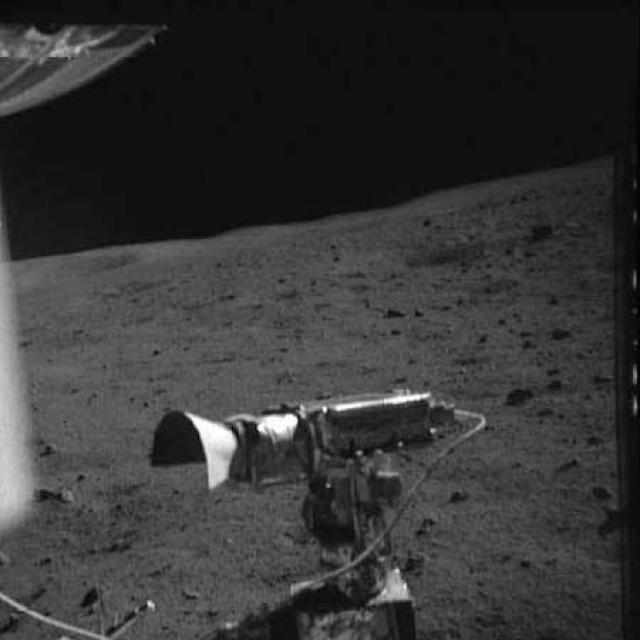artifact: (149, 377, 494, 640), (0, 11, 164, 554), (0, 580, 155, 639)
crater: (390, 240, 520, 280), (170, 286, 222, 321)
rock: (517, 212, 576, 246), (500, 375, 544, 408), (590, 499, 636, 527), (407, 512, 446, 544), (48, 479, 82, 508), (584, 476, 620, 503), (398, 552, 446, 571), (445, 486, 478, 508), (40, 436, 66, 462), (544, 325, 576, 344)
